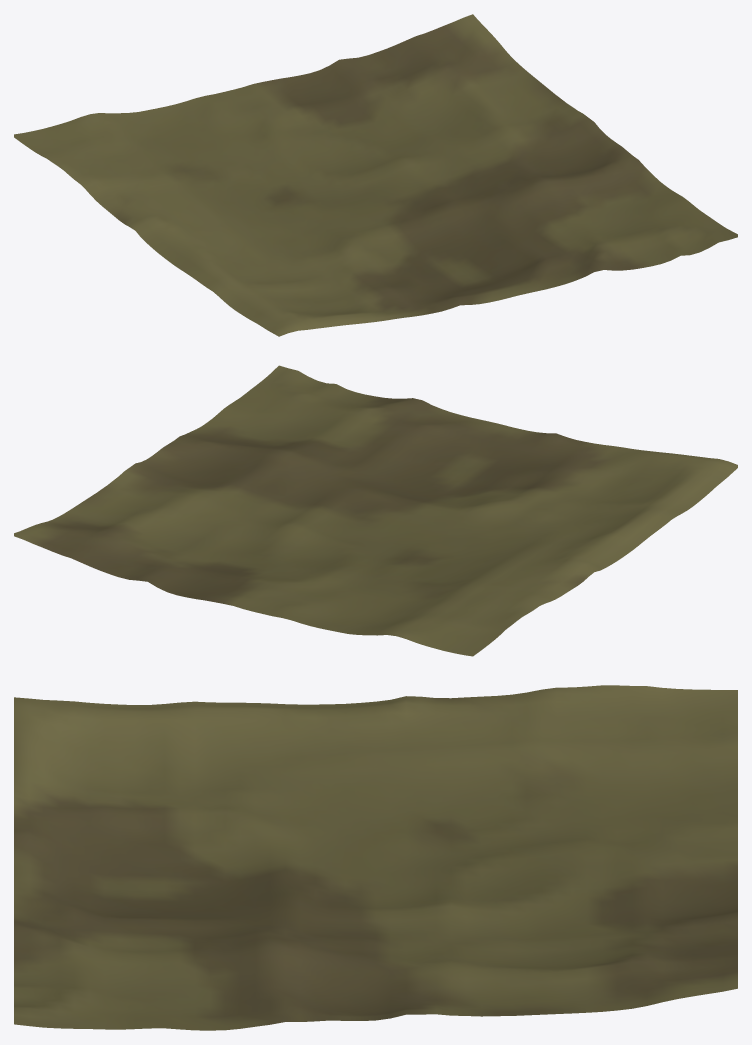
The model's file is land_m_12_08.glb.
3 renders of one model, top to bottom at view 1: azimuth 30°, elevation 25°; view 2: azimuth 150°, elevation 25°; view 3: azimuth 270°, elevation 25°, orthographic. The views are drawn at different scales.
Parts seen in each view (by area): view 1: land_m_12_08; view 2: land_m_12_08; view 3: land_m_12_08.
Part boxes in pixels (<box>): land_m_12_08: <box>14,14,737,336</box>; land_m_12_08: <box>14,365,737,656</box>; land_m_12_08: <box>14,685,737,1030</box>.
Bounding box in the file's own units: 960 × 85.17 × 960.
